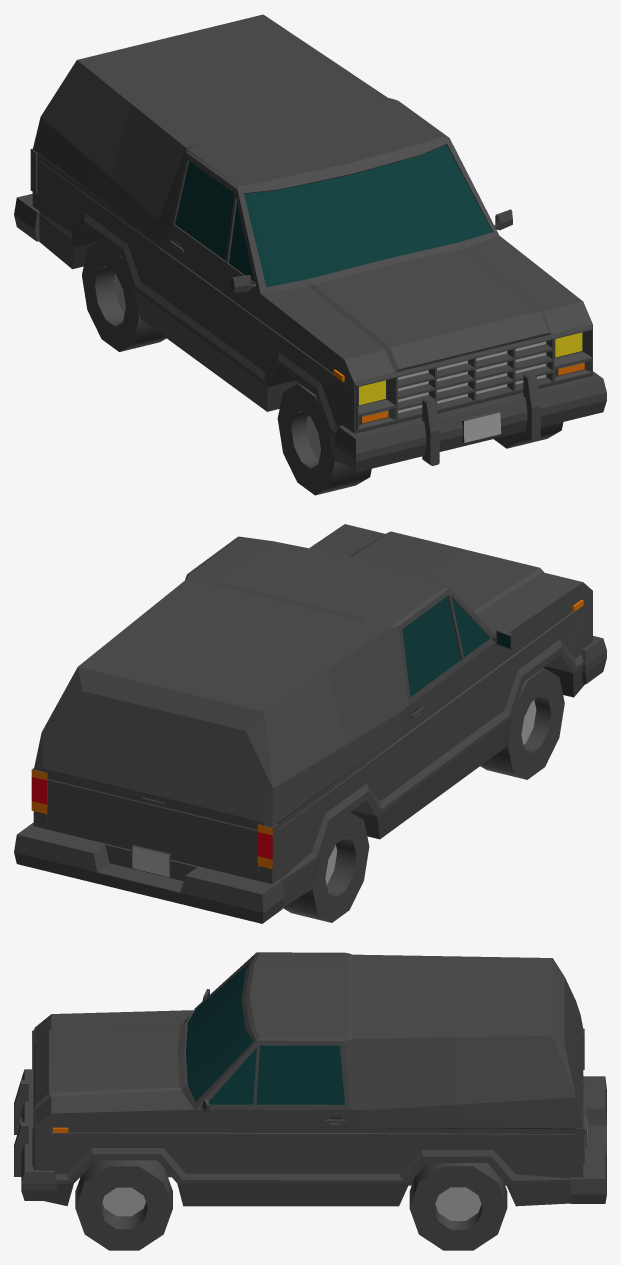
The model's file is Jeep.fbx.
3 views of the same model, one above another, from view 1: azimuth 30°, elevation 25°; view 2: azimuth 150°, elevation 25°; view 3: azimuth 270°, elevation 25° (orthographic). The views are drawn at different scales.
Parts seen in each view (by area): view 1: hood; view 2: hood; view 3: hood.
Boxes of the visible parts, x1,y1,x2,y2 form: hood: (14, 14, 606, 495); hood: (14, 524, 606, 923); hood: (14, 952, 606, 1250).
Size of the model in its own units: 225 by 188 by 485.
